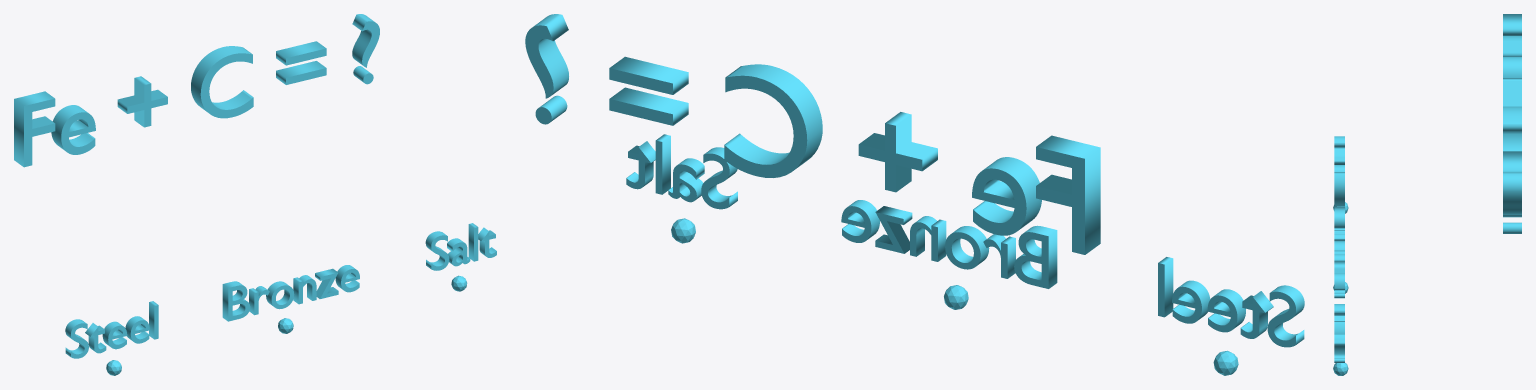
Rendered from console_test_012.fbx.
3 renders of one model, left to right at view 1: azimuth 30°, elevation 25°; view 2: azimuth 150°, elevation 25°; view 3: azimuth 270°, elevation 25°, orthographic. The views are drawn at different scales.
Parts seen in each view (by area): view 1: Txt_Test_01.039, Failure.030, Success, Failure; view 2: Txt_Test_01.039, Failure.030, Success, Failure; view 3: Txt_Test_01.039, Failure.030, Success, Failure, Untitled.003.
Part boxes in pixels (<box>): Txt_Test_01.039: <box>14,14,379,167</box>; Failure.030: <box>222,265,359,321</box>; Success: <box>65,301,158,358</box>; Failure: <box>425,223,496,270</box>; Txt_Test_01.039: <box>525,14,1100,254</box>; Failure.030: <box>841,200,1057,288</box>; Success: <box>1158,257,1304,347</box>; Failure: <box>626,134,737,209</box>; Txt_Test_01.039: <box>1503,14,1521,233</box>; Failure.030: <box>1334,206,1344,298</box>; Success: <box>1334,136,1344,206</box>; Failure: <box>1334,304,1344,362</box>; Untitled.003: <box>1333,363,1348,375</box>.
Size of the model in its own units: 1.51 by 0.7083 by 0.6079.
